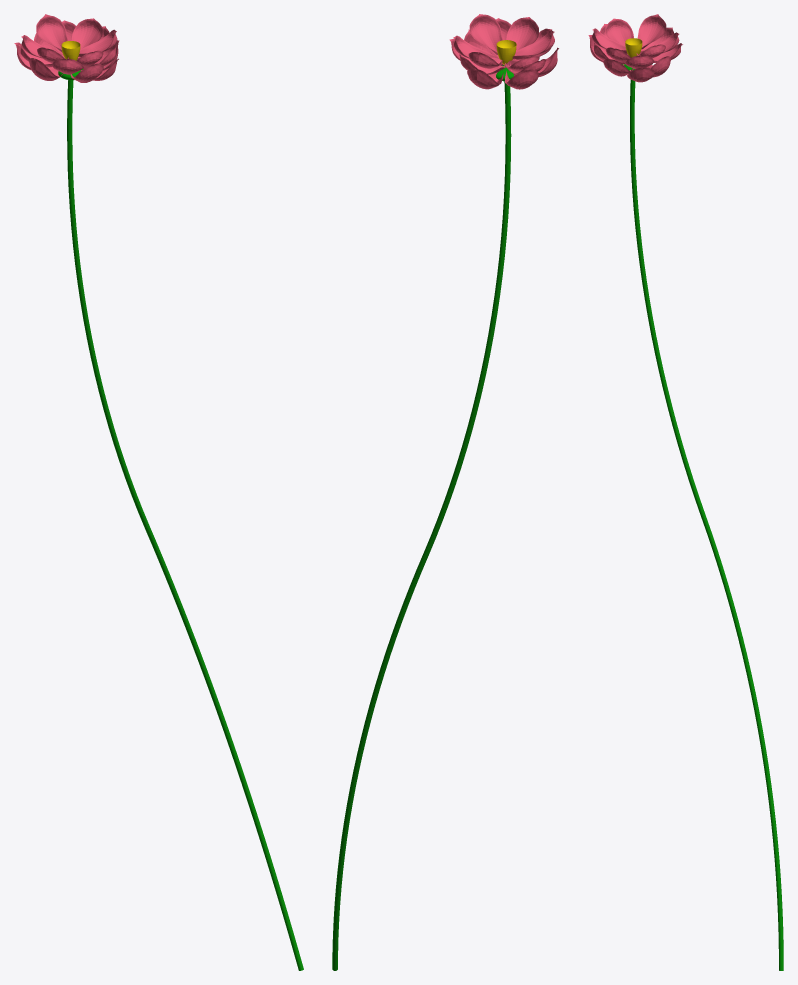
Rendered from Lotus077.fbx.
The picture shows the model from 3 angles, left to right: view 1: azimuth 30°, elevation 25°; view 2: azimuth 150°, elevation 25°; view 3: azimuth 330°, elevation 25°; orthographic projection. The views are drawn at different scales.
Visible parts, largest first — view 1: pCylinder5, nurbsToPoly23, nurbsToPoly19; view 2: pCylinder5, nurbsToPoly22, nurbsToPoly18, nurbsToPoly21, nurbsToPoly10; view 3: pCylinder5, nurbsToPoly23, nurbsToPoly20.
Part boxes in pixels (x1,y1,x2,y2): pCylinder5: (67,80,303,970); nurbsToPoly23: (36,14,67,52); nurbsToPoly19: (71,18,102,49); pCylinder5: (332,81,511,970); nurbsToPoly22: (469,14,502,54); nurbsToPoly18: (506,17,538,51); nurbsToPoly21: (512,30,554,59); nurbsToPoly10: (467,68,503,89); pCylinder5: (630,79,783,970); nurbsToPoly23: (637,14,666,49); nurbsToPoly20: (605,18,633,46).
Bounding box in the file's own units: 52.46 × 199 × 24.29.
